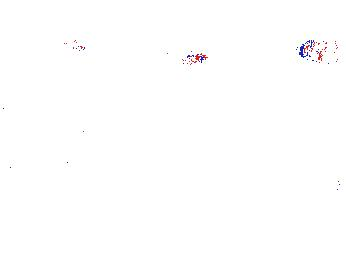X-ray fish: (294, 37, 346, 64)
red belly glassfish: (174, 51, 208, 65), (60, 38, 86, 52)
redtail glassfish: (23, 117, 90, 143)
